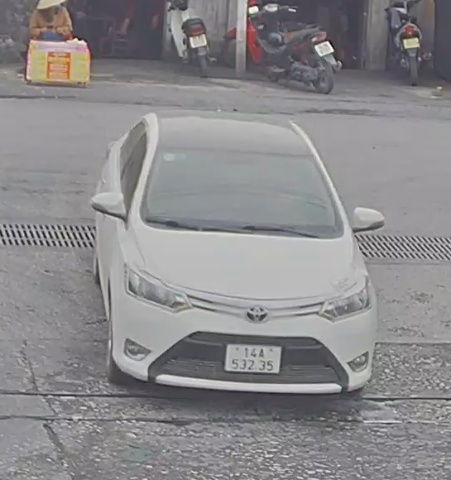vehicle plate: (222, 341, 284, 373)
